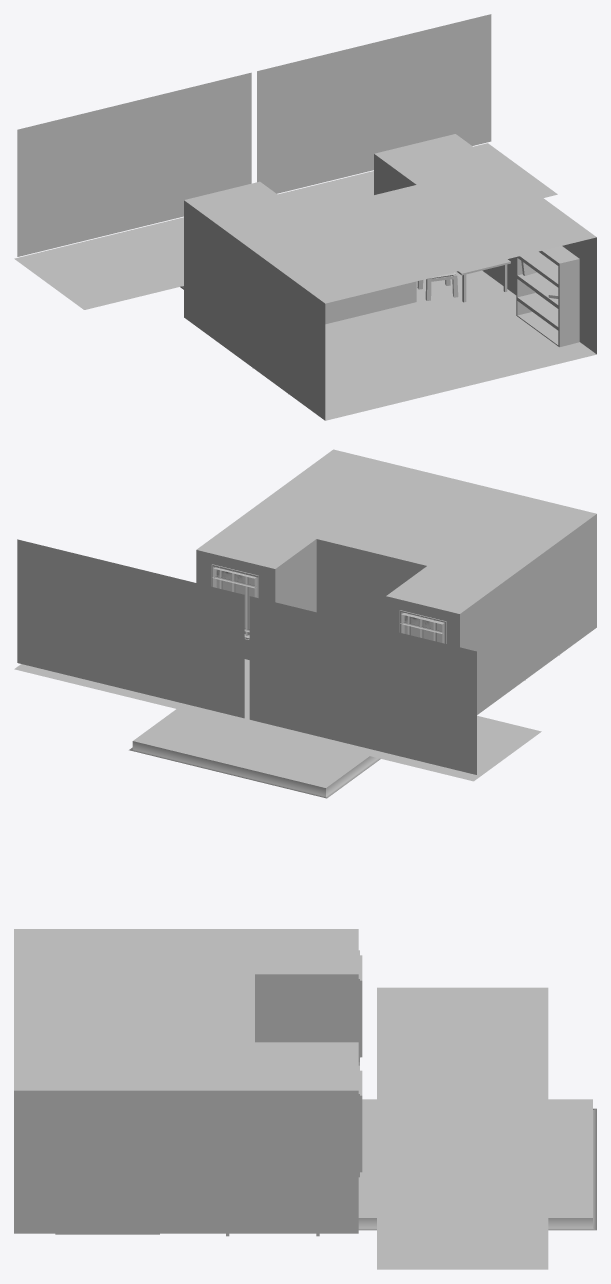
File: InteriorIrlandesSinMisterio.fbx
3 renders of one model, top to bottom at view 1: azimuth 30°, elevation 25°; view 2: azimuth 150°, elevation 25°; view 3: azimuth 270°, elevation 25°, orthographic. The views are drawn at different scales.
Parts seen in each view (by area): view 1: Habitacion1, pPlane1, pPlane2, pPlane4, Estanteria1, pPlane3, Mesa1; view 2: Habitacion1, pPlane2, pPlane1, pCube16, pPlane4, pPlane3, Sucidad2, Sucidad; view 3: Habitacion1, pPlane3, pPlane4, pCube16.
Part boxes in pixels (bbox=[...]): Habitacion1: bbox=[184, 134, 596, 420]; pPlane1: bbox=[17, 72, 251, 256]; pPlane2: bbox=[257, 14, 491, 193]; pPlane4: bbox=[14, 217, 183, 309]; Estanteria1: bbox=[516, 246, 579, 347]; pPlane3: bbox=[278, 143, 557, 212]; Mesa1: bbox=[457, 259, 510, 302]; Habitacion1: bbox=[196, 449, 596, 714]; pPlane2: bbox=[17, 539, 244, 718]; pPlane1: bbox=[249, 596, 476, 774]; pCube16: bbox=[129, 709, 380, 798]; pPlane4: bbox=[247, 715, 541, 781]; pPlane3: bbox=[14, 659, 249, 724]; Sucidad2: bbox=[216, 569, 258, 635]; Sucidad: bbox=[404, 615, 442, 642]; Habitacion1: bbox=[14, 929, 358, 1233]; pPlane3: bbox=[377, 1130, 548, 1269]; pPlane4: bbox=[377, 987, 548, 1126]; pCube16: bbox=[358, 1099, 596, 1230].
Bounding box in the file's own units: 21.83 × 7.33 × 19.07.
